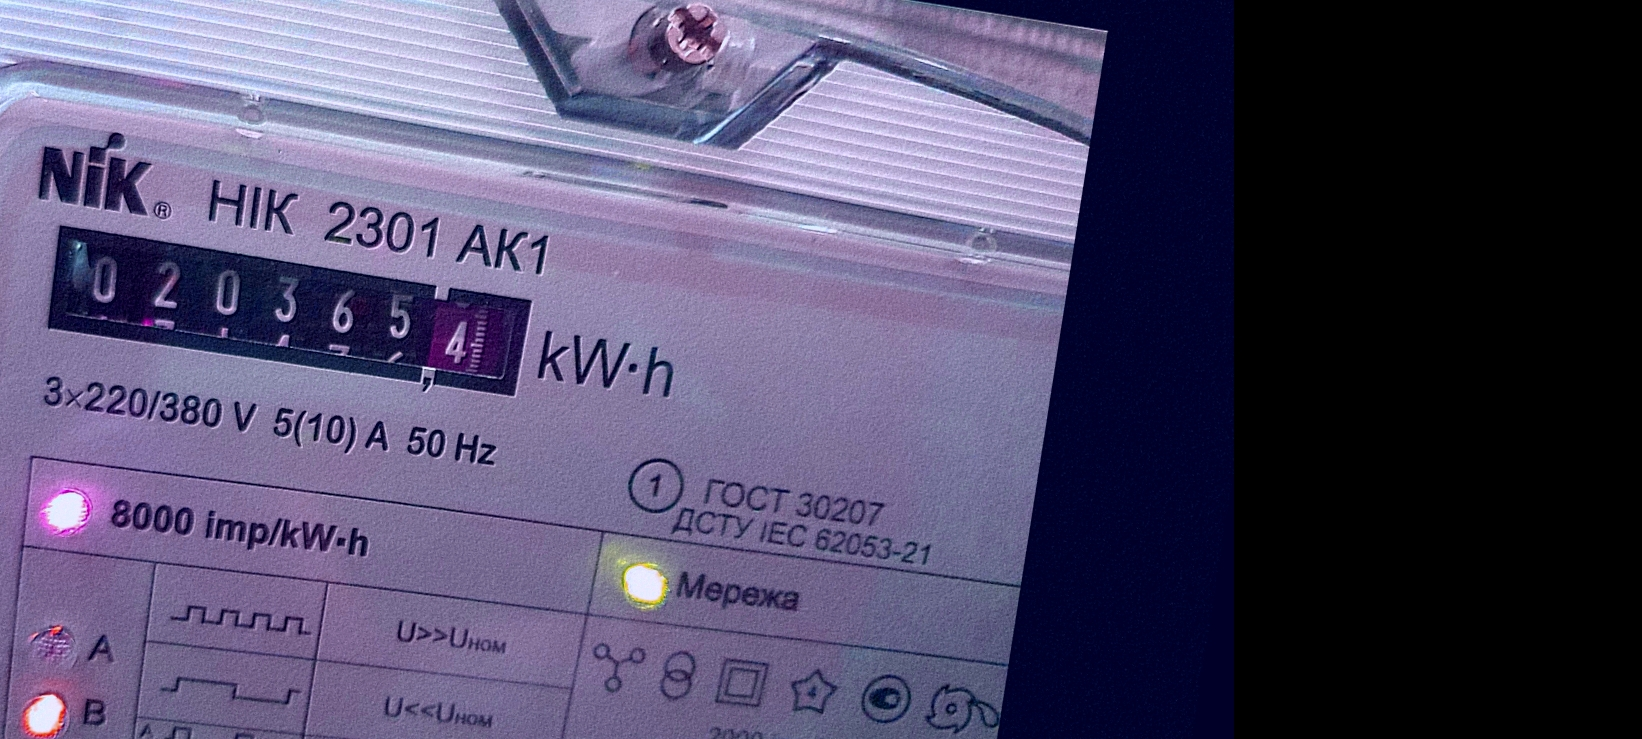0: (85, 250, 126, 310), (210, 267, 247, 320)
2: (149, 257, 187, 312)
3: (269, 274, 305, 327)
4: (441, 316, 472, 367)
5: (385, 292, 419, 342)
6: (327, 283, 360, 337)
screen: (28, 207, 551, 421)
